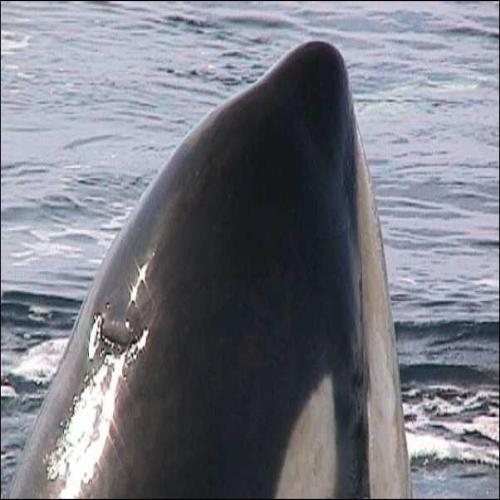killer_whale-endangered: (16, 37, 423, 500)
